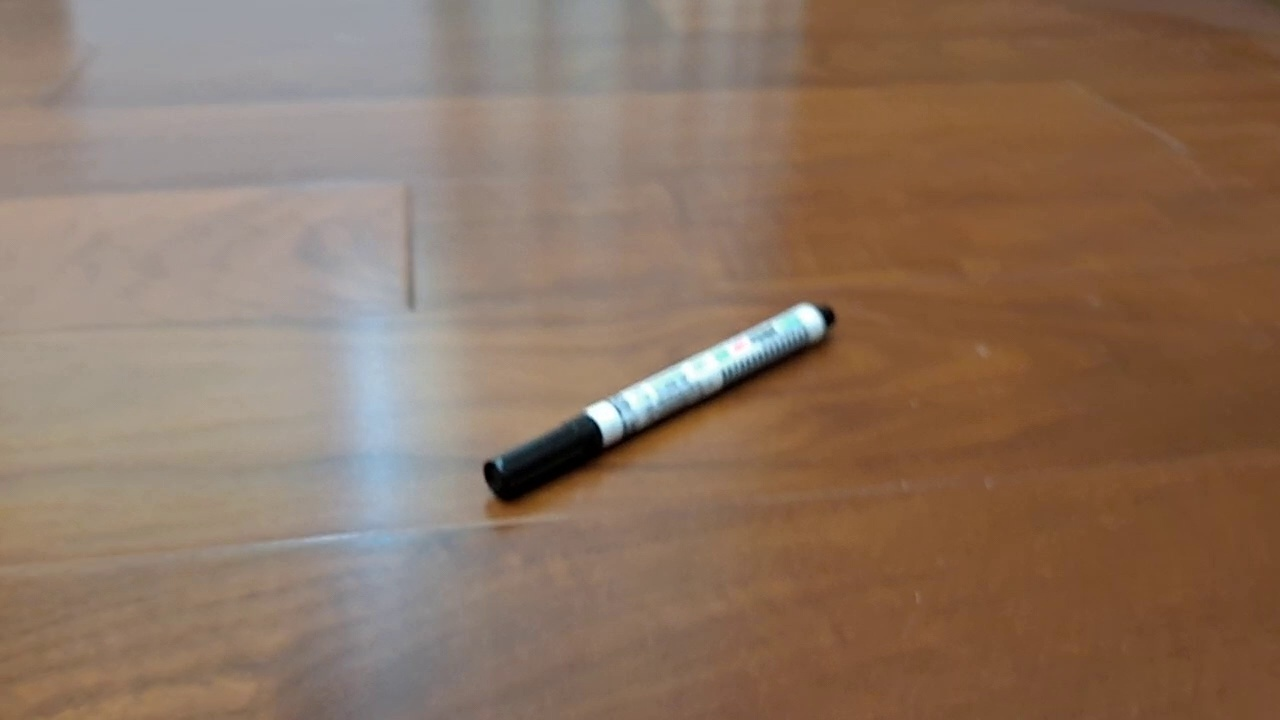pen: (483, 300, 837, 503)
